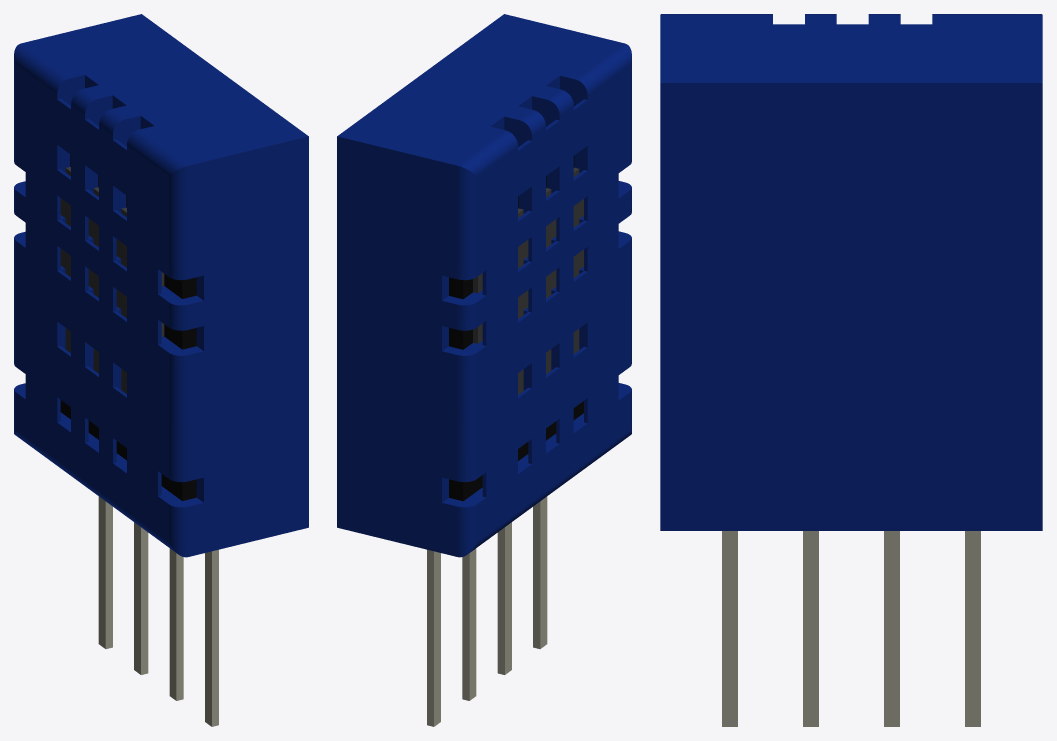
The model's file is dht11.glb.
3 views of the same model, side by side, from view 1: azimuth 30°, elevation 25°; view 2: azimuth 150°, elevation 25°; view 3: azimuth 270°, elevation 25° (orthographic). The views are drawn at different scales.
Bounding box in the file's own units: 5.5 × 23.5 × 12.
